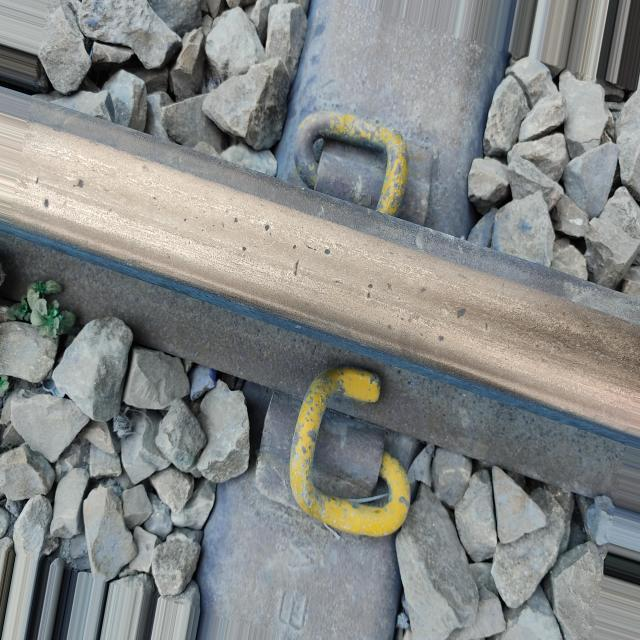Good Fasteners: (235, 348, 425, 570), (283, 92, 450, 252)
